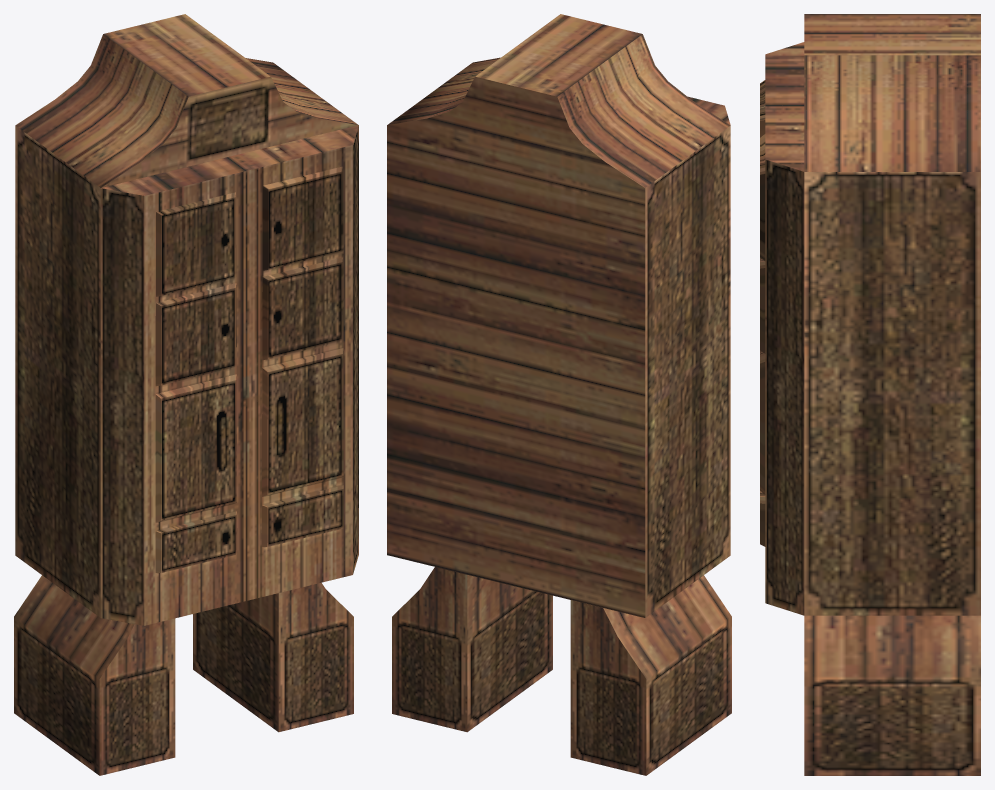
Rendered from frn_all_eleg_cabinet_s02_l0.fbx.
3 views of the same model, side by side, from view 1: azimuth 30°, elevation 25°; view 2: azimuth 150°, elevation 25°; view 3: azimuth 270°, elevation 25° (orthographic). The views are drawn at different scales.
Parts seen in each view (by area): view 1: mesh_node; view 2: mesh_node; view 3: mesh_node.
Part boxes in pixels (x1,y1,x2,y2): mesh_node: (14,14,358,775); mesh_node: (387,14,731,775); mesh_node: (760,14,980,775).
Bounding box in the file's own units: 0.7423 × 1.8 × 0.5305.
Materials: 1 (1 with a texture image).
